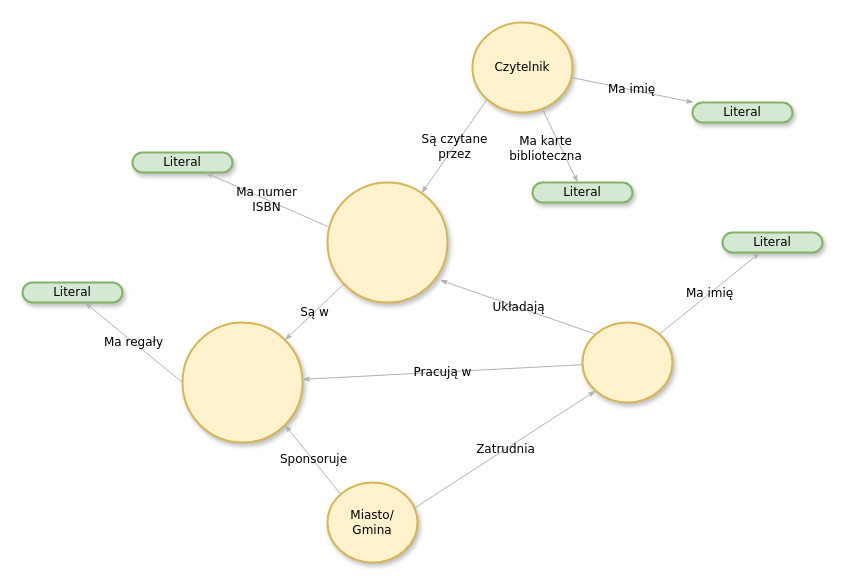
The diagram is 846 pixels wide and 587 high, and some of its shapes have lost their labels. The shapes that lost their labels are listed below. From the top down, each one's centre as x and y in pixels, then its label:
the point at 388,243: Książka
the point at 243,383: Biblioteka
the point at 628,363: Bibliotekarz
